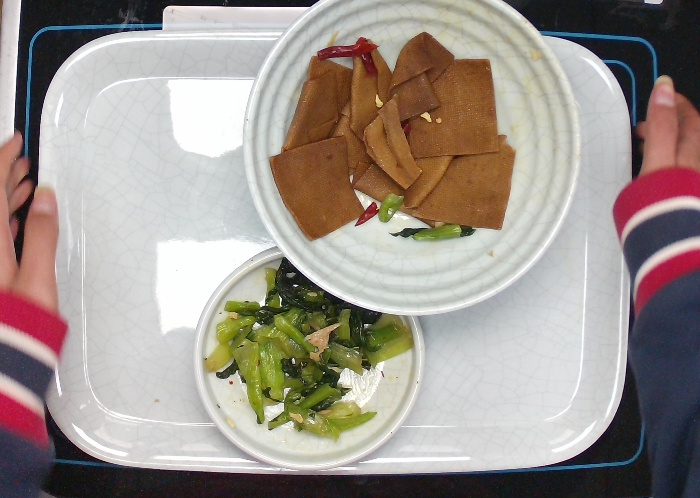JYsf-Da_Tang_Wan: (237, 1, 584, 319)
JYsf-Xiao_Yuan_Pan: (191, 245, 430, 476)
